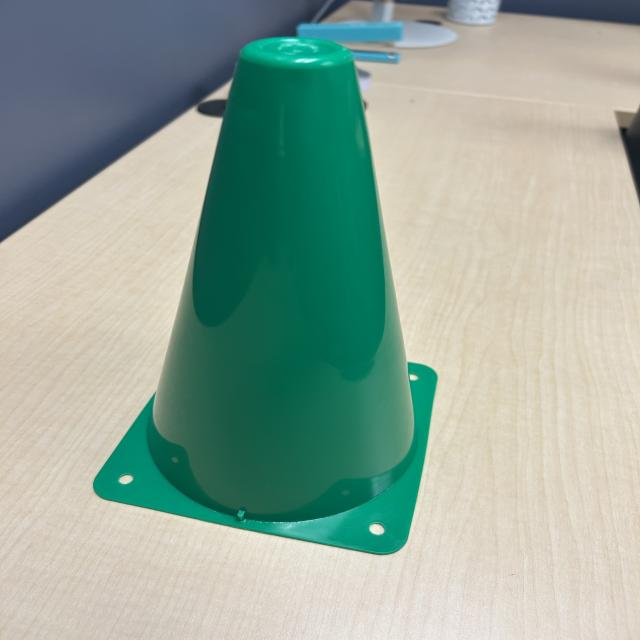green cone: (94, 34, 449, 563)
